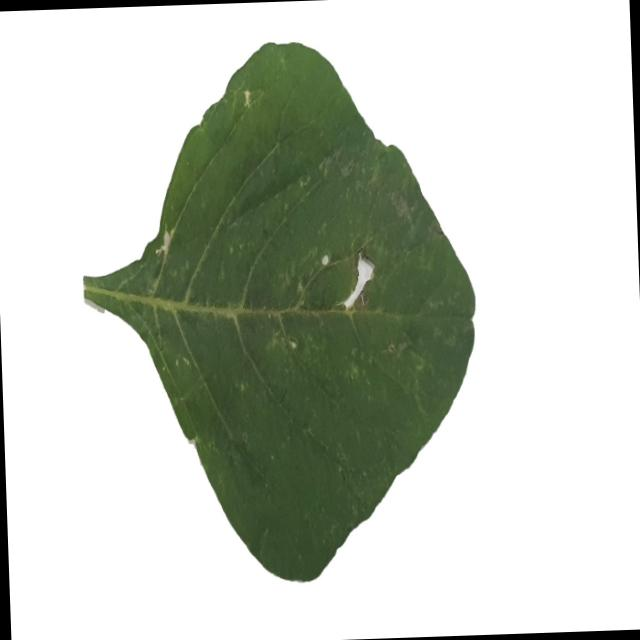Medicinal-Arive Dantu: (74, 32, 483, 589)
